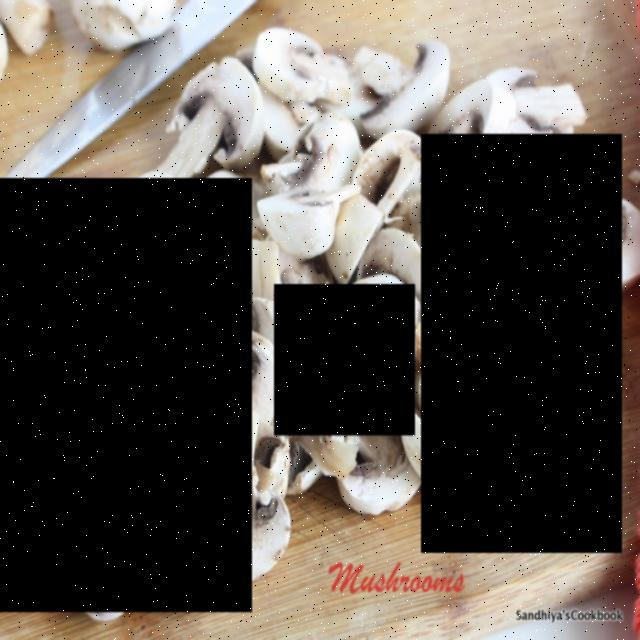Mushroom: (0, 178, 252, 612), (421, 134, 622, 554), (274, 286, 415, 436)
